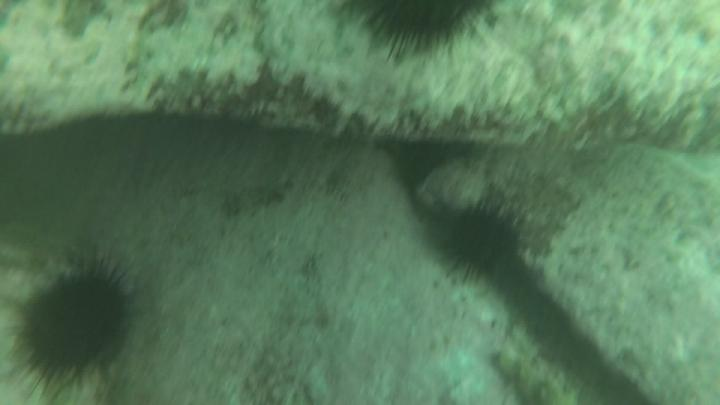echinus: (1, 243, 138, 403), (333, 1, 503, 66), (434, 195, 524, 290)
holothurian: (487, 347, 584, 405)
